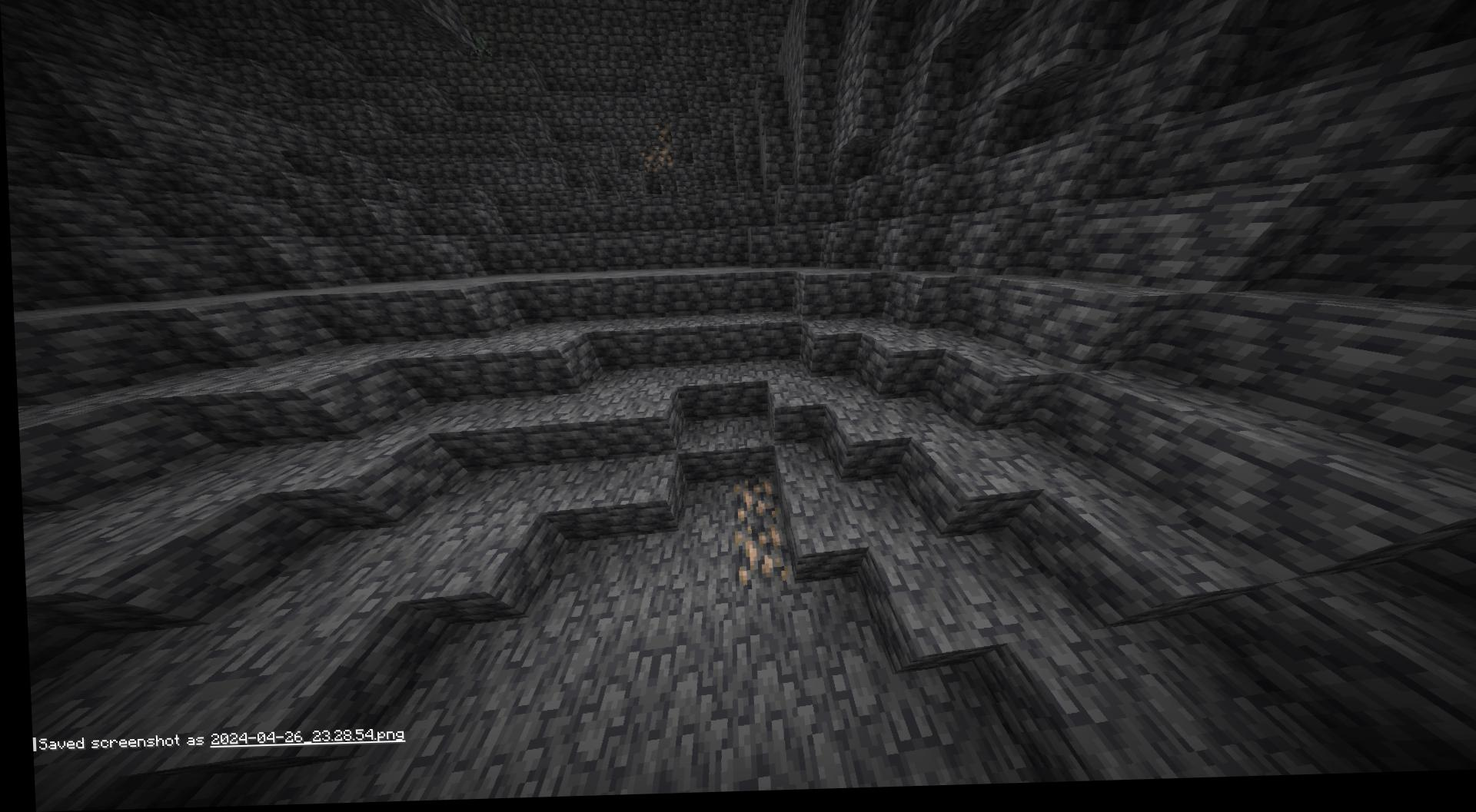iron ore: (726, 528, 786, 595), (724, 482, 773, 524), (636, 152, 681, 177), (647, 126, 675, 150)
